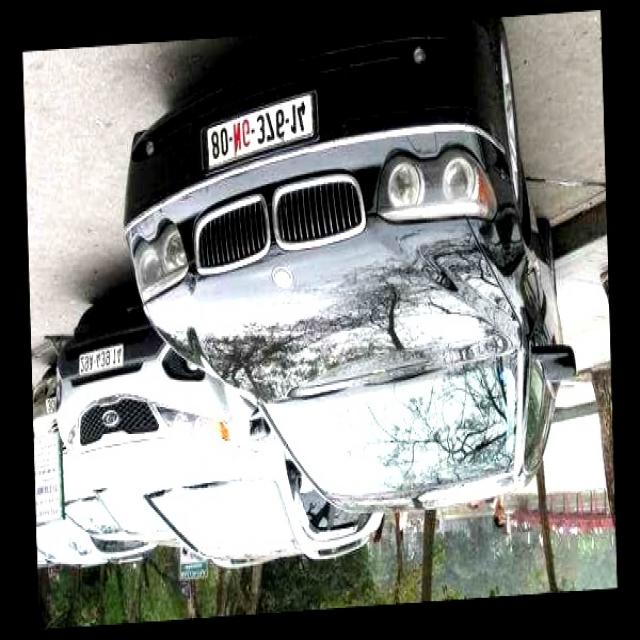bien_ngoai_giao: (200, 92, 320, 168)
bien_trang: (75, 339, 128, 379)
